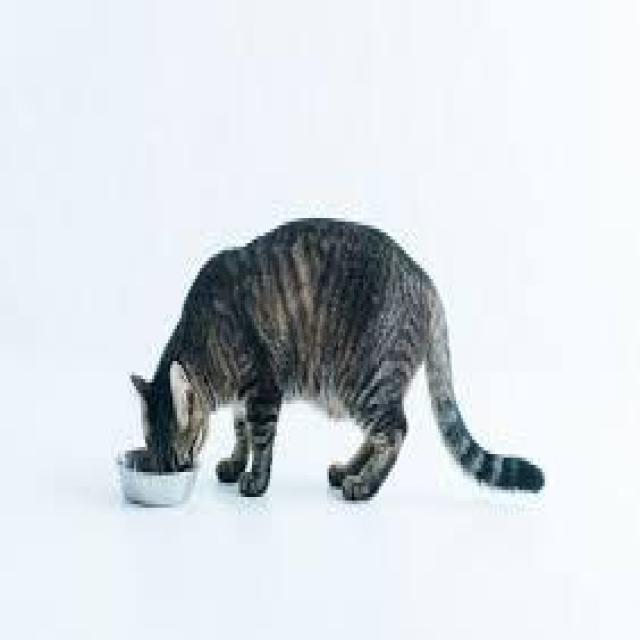Cat: (122, 354, 213, 473)
